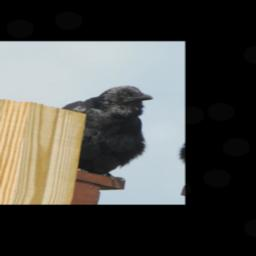Crow: (48, 79, 162, 182)
